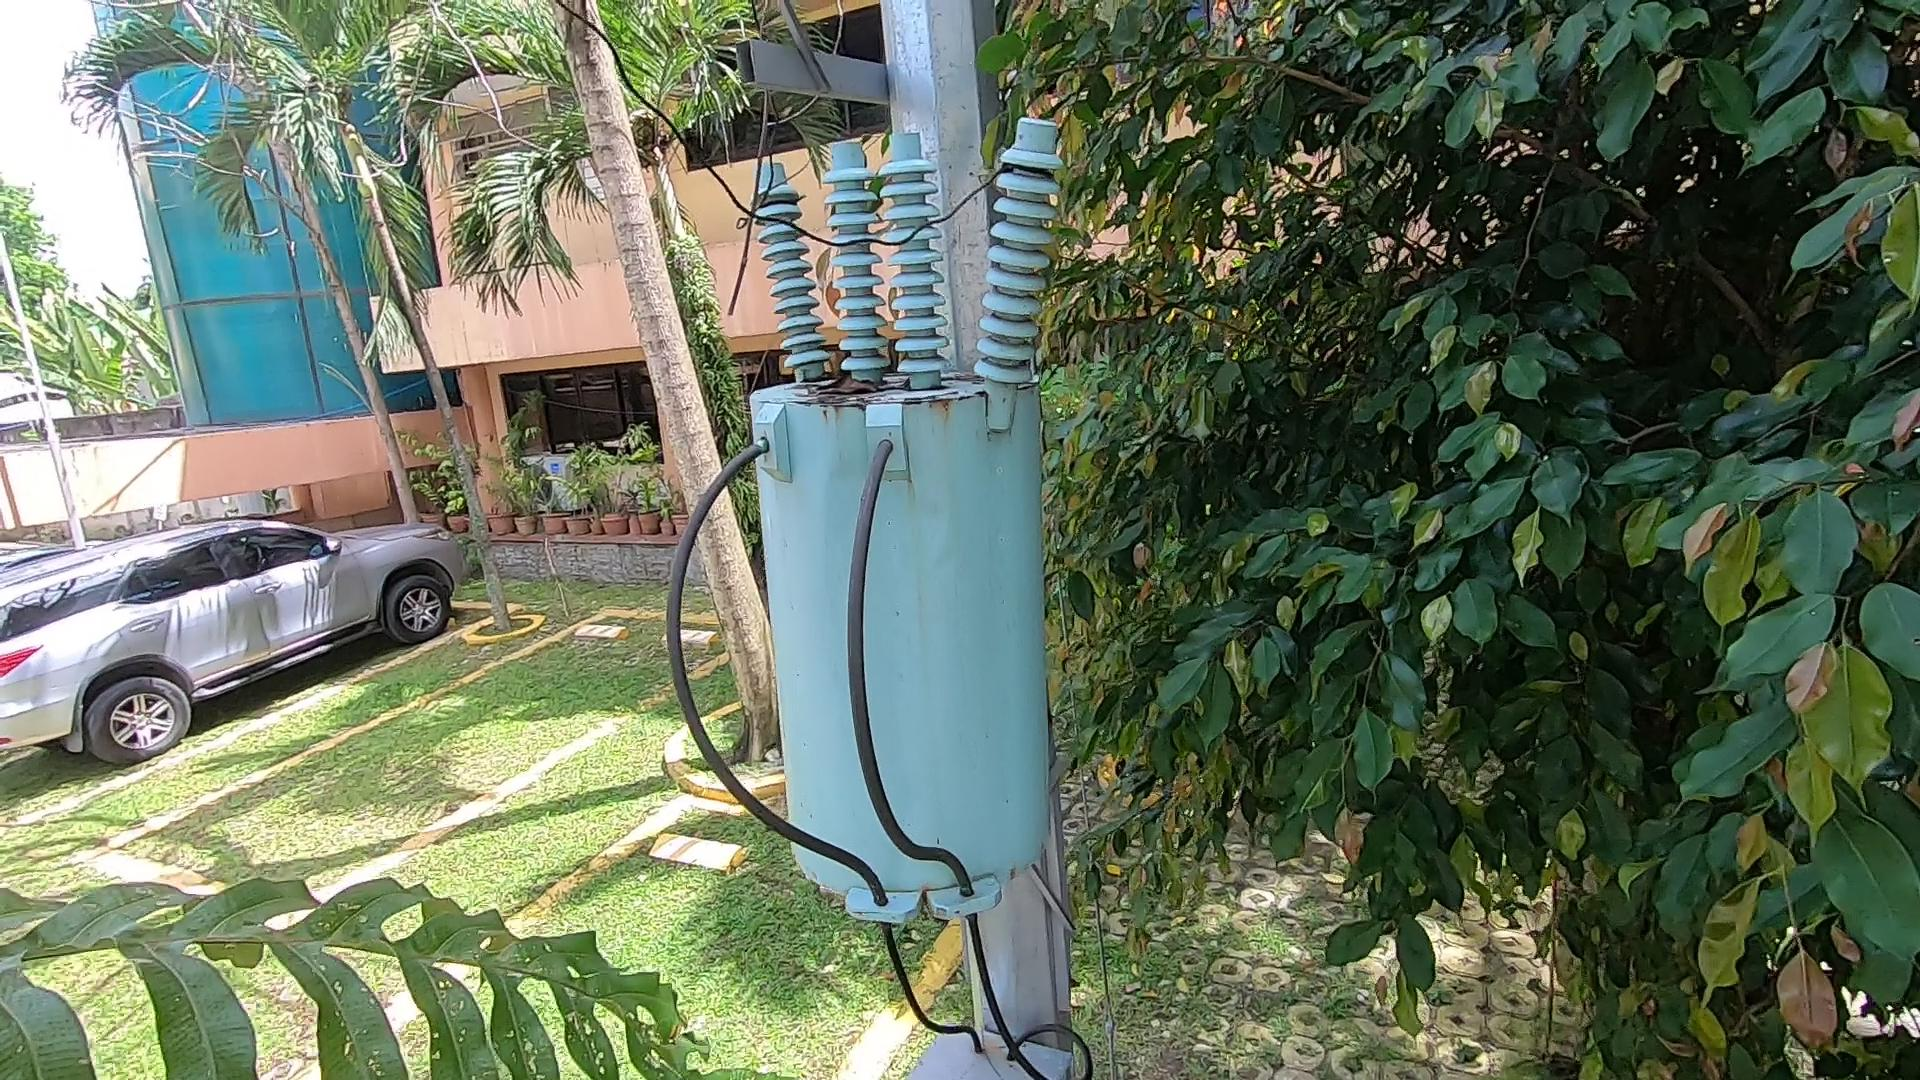leaf: (796, 363, 885, 402)
tree branch: (694, 11, 789, 320)
